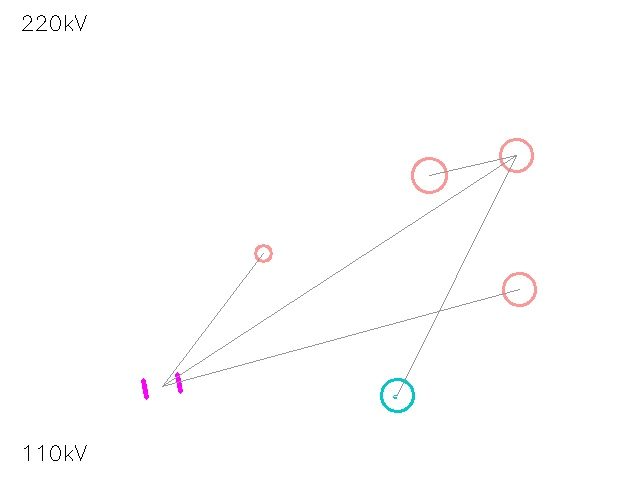capacitor: (133, 357, 191, 415)
fuse: (395, 141, 463, 209)
generator: (381, 379, 413, 411)
load_break_switch: (483, 122, 549, 188)
surge_arrester: (486, 256, 552, 322), (246, 236, 280, 270)
